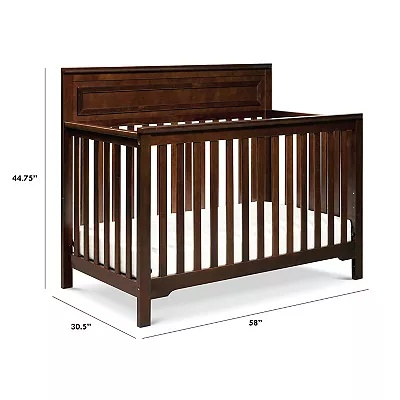crib: (62, 64, 361, 326)
